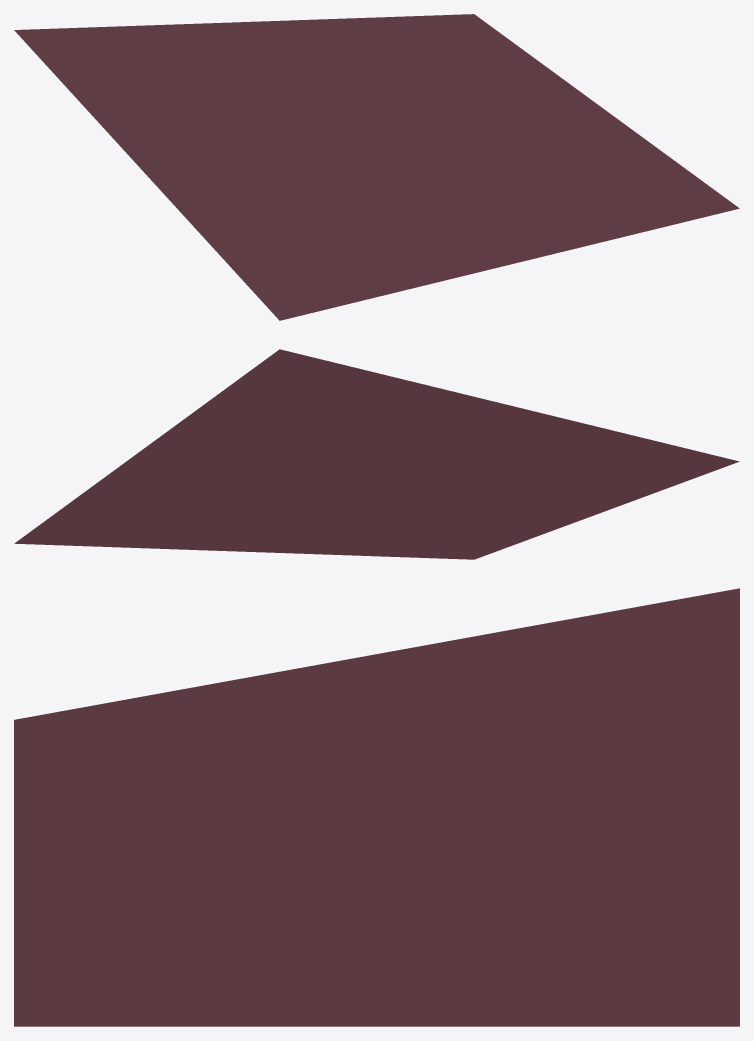
Rendered from tiles-nb-tile-hill-corner-nb.glb.
The picture shows the model from 3 angles, top to bottom: view 1: azimuth 30°, elevation 25°; view 2: azimuth 150°, elevation 25°; view 3: azimuth 270°, elevation 25°; orthographic projection. The views are drawn at different scales.
Parts seen in each view (by area): view 1: tile-hill-corner-nb; view 2: tile-hill-corner-nb; view 3: tile-hill-corner-nb.
Boxes of the visible parts, x1,y1,x2,y2 form: tile-hill-corner-nb: (14,14,739,320); tile-hill-corner-nb: (14,349,739,559); tile-hill-corner-nb: (14,588,739,1026).
Bounding box in the file's own units: 30 × 6 × 30.
